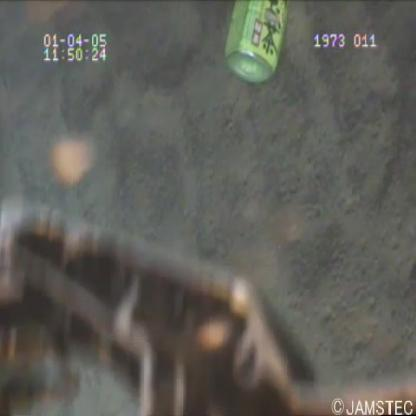Rác: (221, 1, 294, 96)
